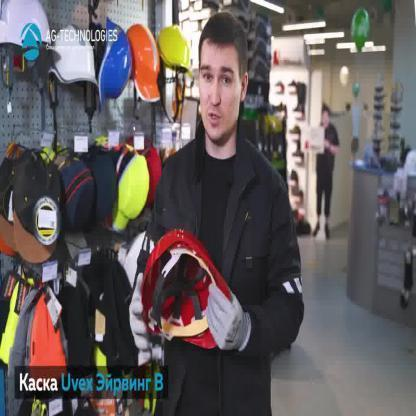gloves: (206, 282, 248, 350), (128, 270, 153, 356)
helmet: (142, 233, 235, 352), (98, 16, 134, 114), (50, 22, 99, 86), (127, 22, 162, 108), (0, 0, 54, 53), (156, 22, 194, 78)
